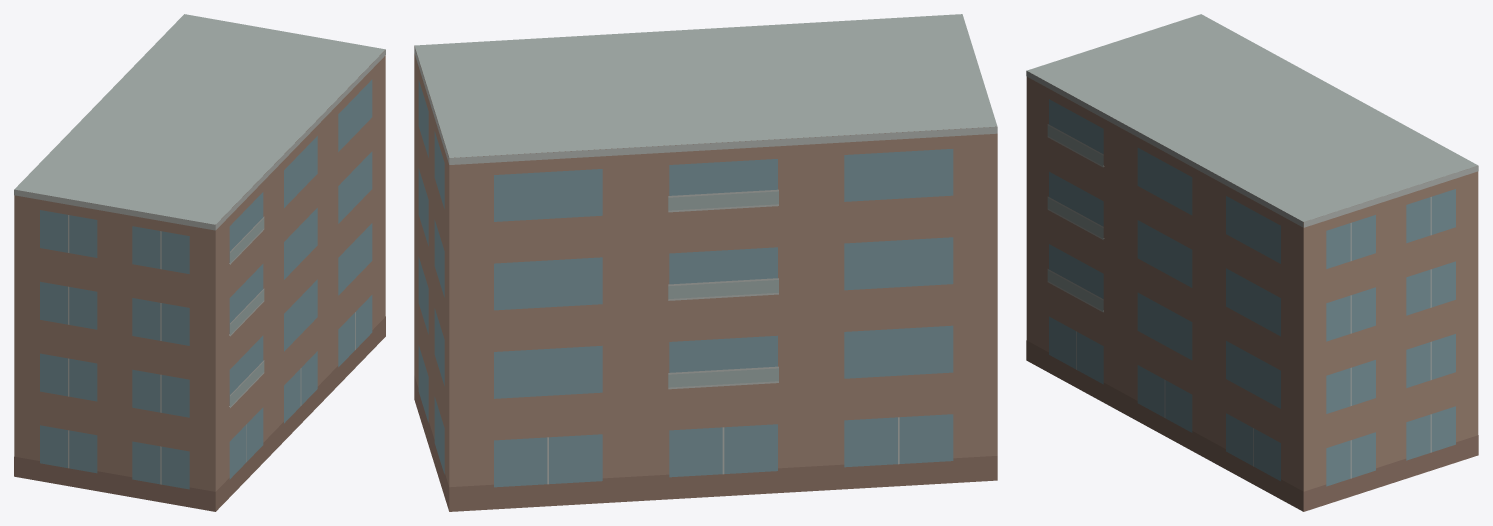
Rendered from survey-upis-32663180.glb.
3 renders of one model, left to right at view 1: azimuth 30°, elevation 25°; view 2: azimuth 150°, elevation 25°; view 3: azimuth 270°, elevation 25°, orthographic. The views are drawn at different scales.
Visible parts, largest first — view 1: survey-upis-32663180.tmp; view 2: survey-upis-32663180.tmp; view 3: survey-upis-32663180.tmp.
Part boxes in pixels (bbox=[...]): survey-upis-32663180.tmp: bbox=[14, 14, 385, 511]; survey-upis-32663180.tmp: bbox=[414, 14, 997, 511]; survey-upis-32663180.tmp: bbox=[1026, 14, 1478, 511].
Bounding box in the file's own units: 18.79 × 12.2 × 17.25.
